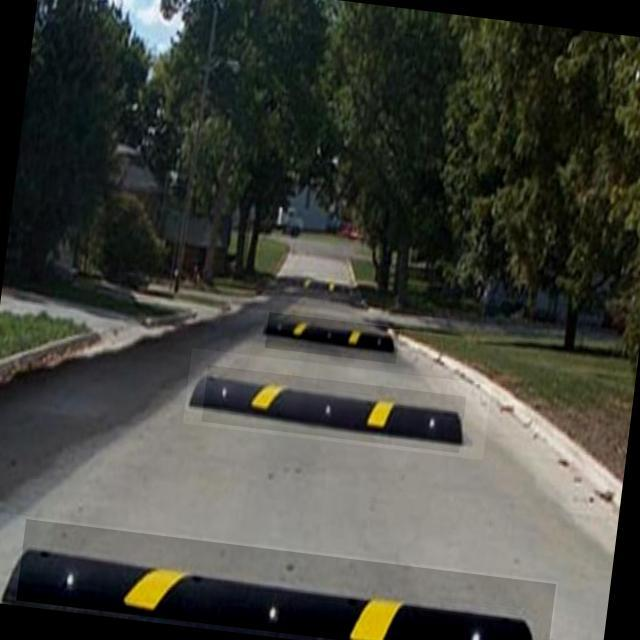speedbreaker: (15, 518, 556, 640), (200, 365, 467, 453), (264, 312, 400, 363), (302, 271, 349, 300)
